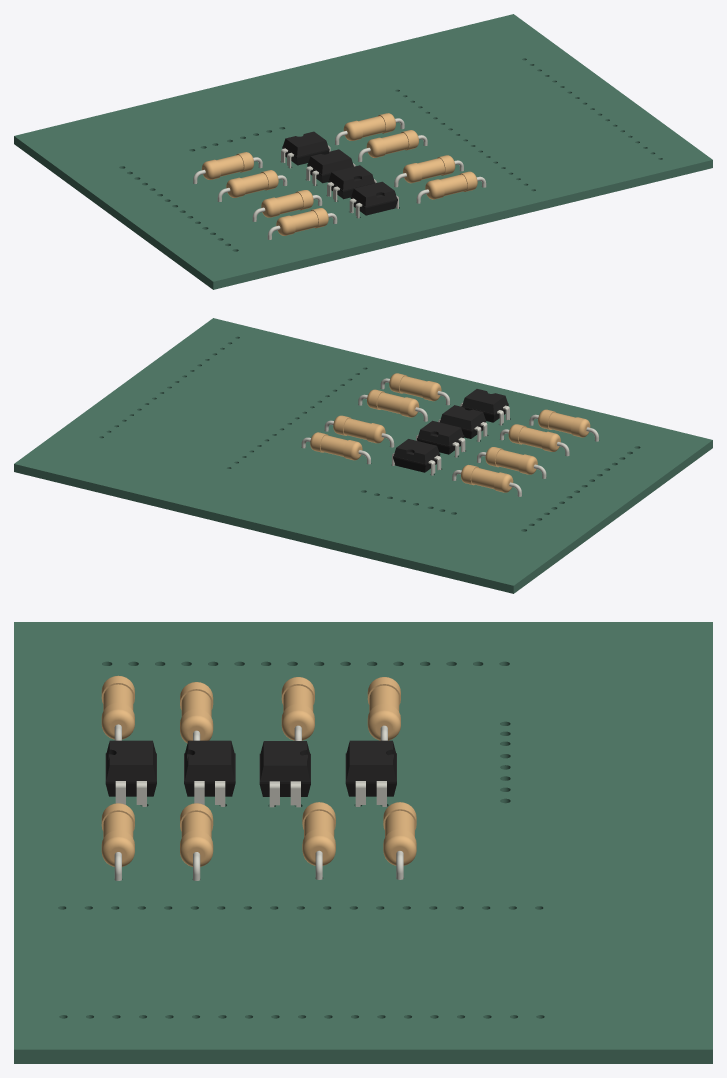
The model's file is Car_v1.glb.
The picture shows the model from 3 angles, top to bottom: view 1: azimuth 30°, elevation 25°; view 2: azimuth 150°, elevation 25°; view 3: azimuth 270°, elevation 25°; orthographic projection. The views are drawn at different scales.
Visible parts, largest first — view 1: =>[0:1:1:4], U3, U2, U4, R3, R4, R5, R6, R2, R7, R8, R1 (+1 smaller); view 2: =>[0:1:1:4], U2, U1, U3, R5, R2, R6, R7, R8, R3, R4, R1 (+1 smaller); view 3: =>[0:1:1:4], U2, U4, U3, U1, R5, R3, R6, R4, R7, R1, R2 (+1 smaller).
Boxes of the visible parts, box(x1,y1,x2,y2) form: =>[0:1:1:4]: box(14, 14, 712, 289); U3: box(349, 181, 398, 218); U2: box(281, 131, 330, 168); U4: box(327, 165, 376, 201); R3: box(416, 171, 486, 203); R4: box(394, 155, 463, 187); R5: box(358, 130, 427, 161); R6: box(335, 113, 404, 145); R2: box(193, 152, 262, 183); R7: box(267, 208, 337, 239); R8: box(252, 190, 322, 221); R1: box(217, 170, 287, 201); =>[0:1:1:4]: box(14, 318, 712, 593); U2: box(392, 439, 441, 475); U1: box(416, 420, 465, 457); U3: box(460, 389, 509, 425); R5: box(324, 415, 394, 447); R2: box(452, 464, 521, 496); R6: box(301, 432, 370, 464); R7: box(529, 409, 598, 441); R8: box(500, 424, 569, 456); R3: box(380, 373, 449, 405); R4: box(358, 389, 427, 421); R1: box(477, 447, 546, 478); =>[0:1:1:4]: box(14, 622, 712, 1063); U2: box(345, 740, 396, 806); U4: box(184, 740, 235, 806); U3: box(105, 740, 156, 806); U1: box(259, 741, 310, 807); R5: box(302, 802, 335, 879); R3: box(101, 803, 134, 880); R6: box(383, 802, 416, 879); R4: box(180, 803, 213, 880); R7: box(101, 675, 134, 740); R1: box(281, 677, 314, 740); R2: box(367, 677, 400, 740).
Size of the model in its own units: 0.097 by 0.00698 by 0.067.
